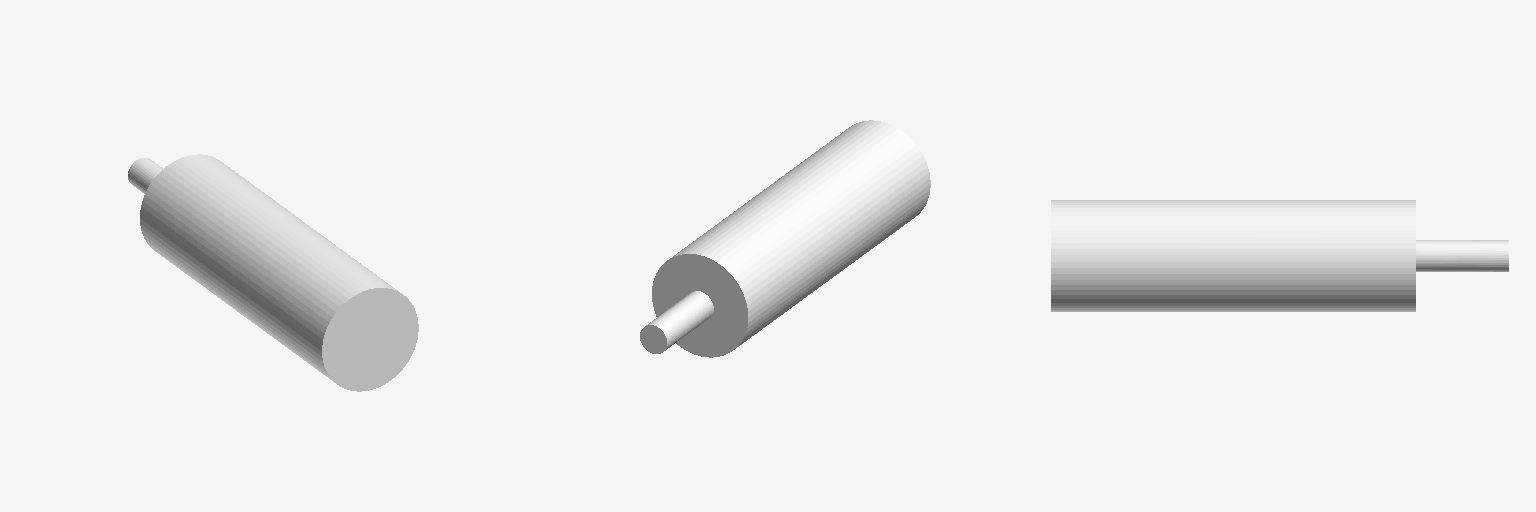
The model's file is pole_bottom.obj.
3 renders of one model, left to right at view 1: azimuth 30°, elevation 25°; view 2: azimuth 150°, elevation 25°; view 3: azimuth 270°, elevation 25°, orthographic.
Bounding box in the file's own units: 0.012 × 0.012 × 0.0492.